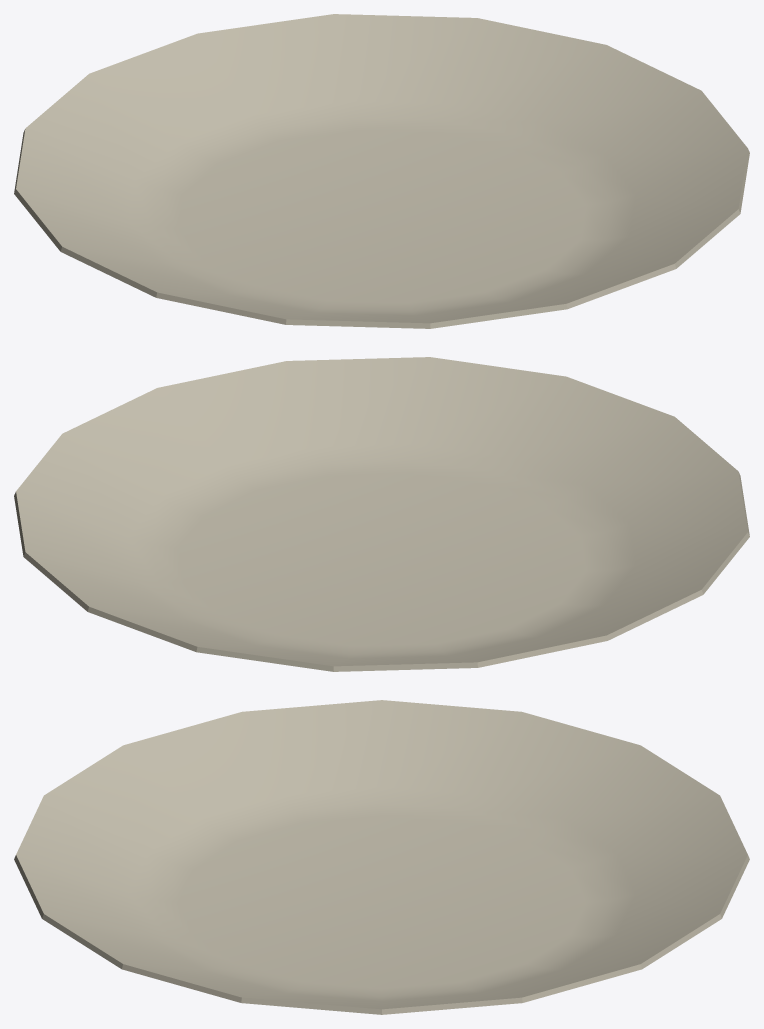
Rendered from plate1.fbx.
3 views of the same model, one above another, from view 1: azimuth 30°, elevation 25°; view 2: azimuth 150°, elevation 25°; view 3: azimuth 270°, elevation 25° (orthographic).
Visible parts, largest first — view 1: plate1; view 2: plate1; view 3: plate1.
Part boxes in pixels (bbox=[...]): plate1: bbox=[14, 14, 749, 328]; plate1: bbox=[14, 357, 749, 671]; plate1: bbox=[14, 700, 749, 1014].
Bounding box in the file's own units: 0.3655 × 0.029 × 0.3655.
